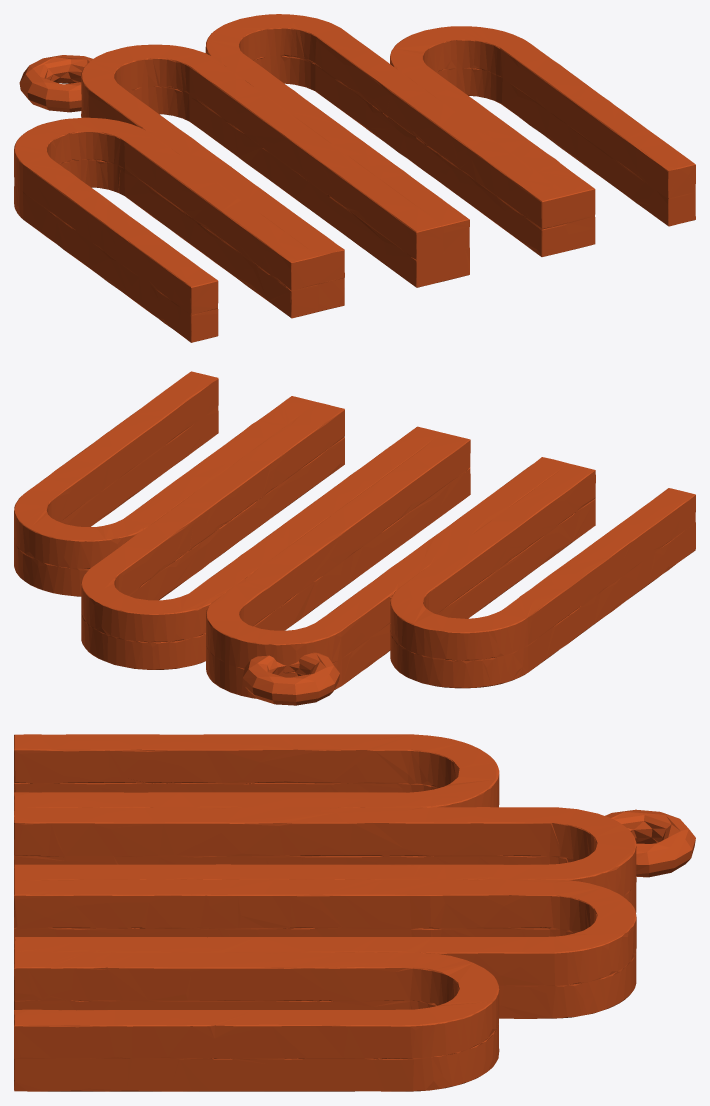
The model's file is chaveiro-arcos.glb.
3 renders of one model, top to bottom at view 1: azimuth 30°, elevation 25°; view 2: azimuth 150°, elevation 25°; view 3: azimuth 270°, elevation 25°, orthographic. The views are drawn at different scales.
Visible parts, largest first — view 1: arcos; view 2: arcos; view 3: arcos.
Boxes of the visible parts, bbox=[...] form: arcos: bbox=[14, 14, 695, 342]; arcos: bbox=[14, 371, 695, 705]; arcos: bbox=[14, 734, 695, 1091].
Size of the model in its own units: 0.42 by 0.0447 by 0.4151.
